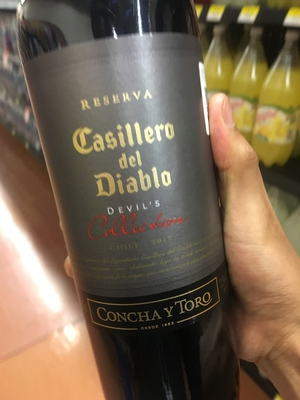casillero del diablo devils collection rojo: (16, 1, 239, 400)
